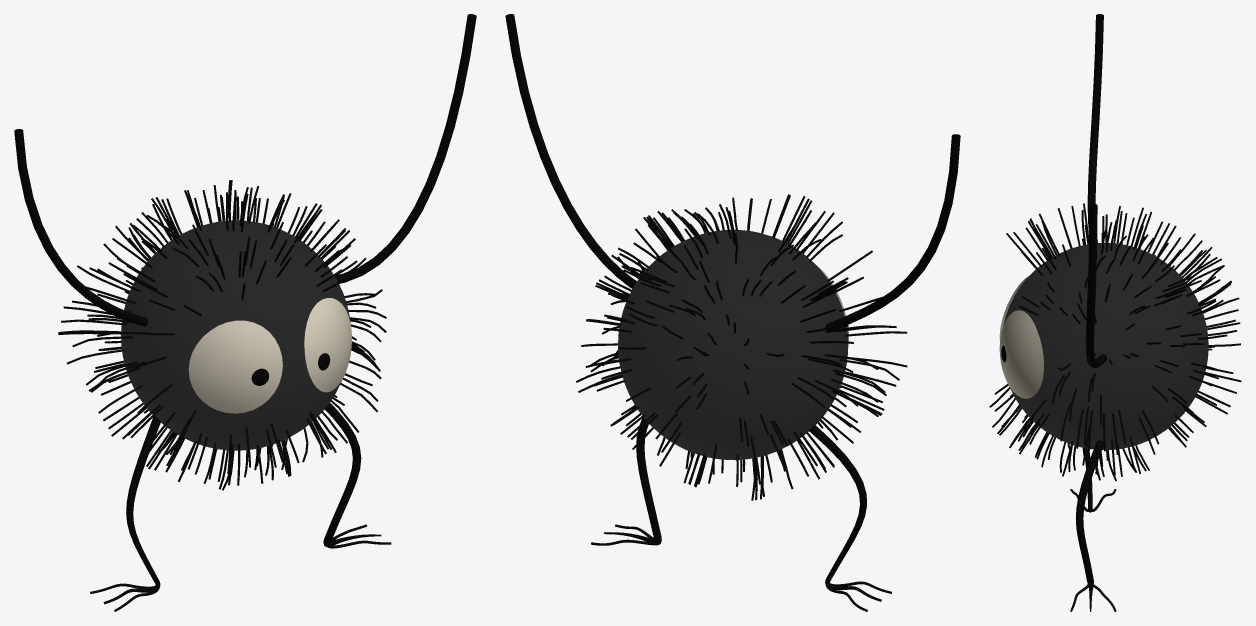
Rendered from soot_sprite_no_rock.gltf.
3 renders of one model, left to right at view 1: azimuth 30°, elevation 25°; view 2: azimuth 150°, elevation 25°; view 3: azimuth 270°, elevation 25°, orthographic. The views are drawn at different scales.
Visible parts, largest first — view 1: Body, Eyes; view 2: Body; view 3: Body, Eyes.
Boxes of the visible parts, bbox=[...] form: Body: bbox=[14, 14, 476, 611]; Eyes: bbox=[188, 298, 351, 413]; Body: bbox=[505, 14, 960, 611]; Body: bbox=[989, 14, 1241, 611]; Eyes: bbox=[999, 276, 1043, 398].
Bounding box in the file's own units: 1.71 × 1.78 × 0.9087.
